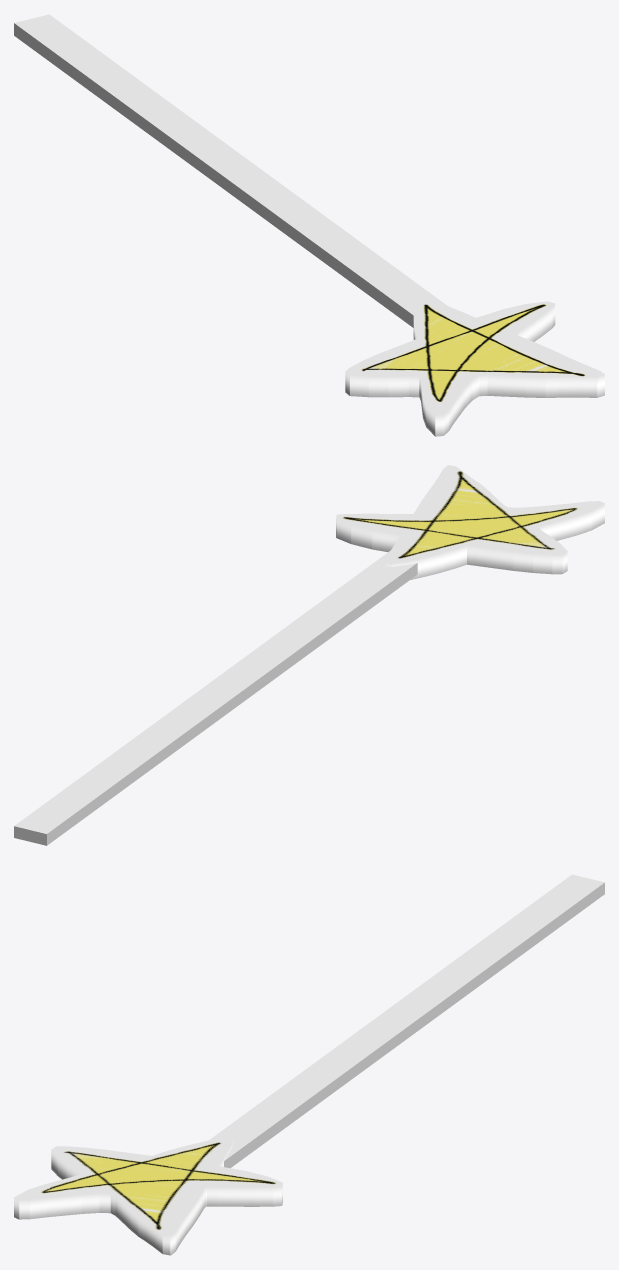
Rendered from star.fbx.
The picture shows the model from 3 angles, top to bottom: view 1: azimuth 30°, elevation 25°; view 2: azimuth 150°, elevation 25°; view 3: azimuth 330°, elevation 25°; orthographic projection. The views are drawn at different scales.
Parts seen in each view (by area): view 1: star1; view 2: star1; view 3: star1.
Boxes of the visible parts, x1=… form: star1: x1=14, y1=14, x2=604, y2=436; star1: x1=14, y1=465, x2=604, y2=845; star1: x1=14, y1=874, x2=604, y2=1255.
Bounding box in the file's own units: 5.27 × 0.4658 × 20.59.
Materials: 1 (1 with a texture image).
